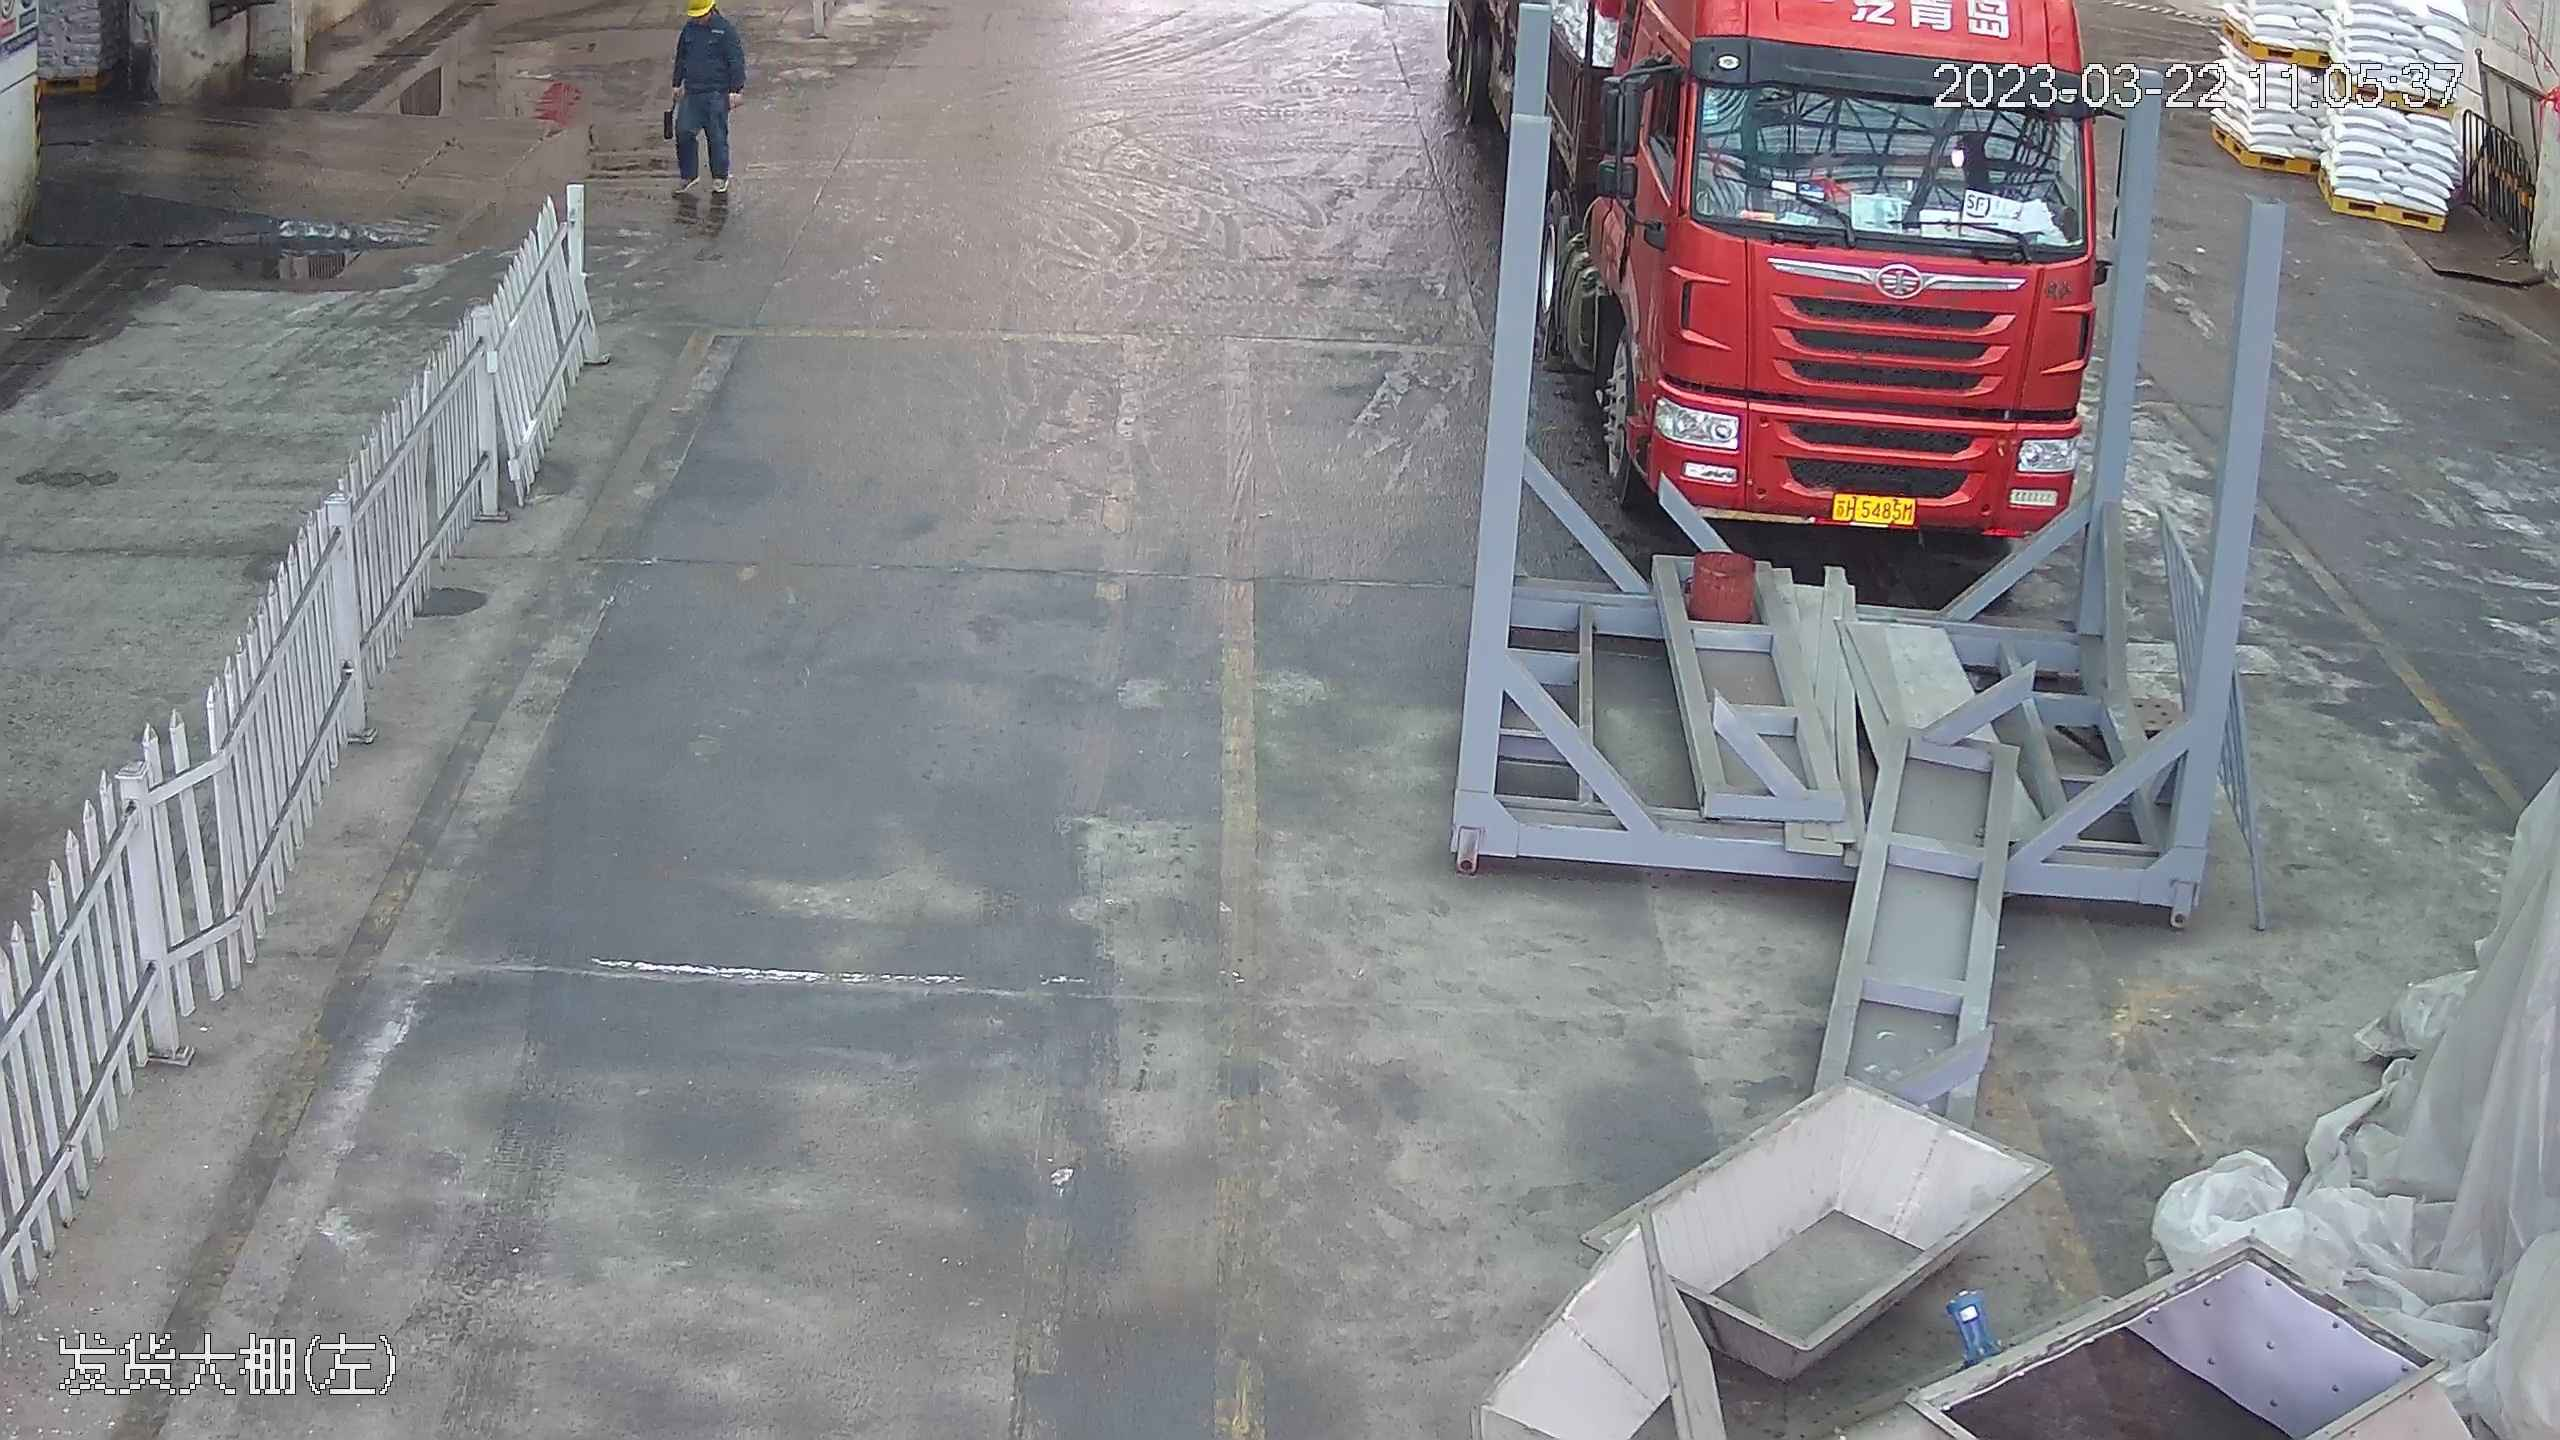head: (673, 1, 740, 58)
helmet: (684, 1, 717, 14)
people: (664, 1, 745, 225)
truck: (1503, 1, 2119, 539)
